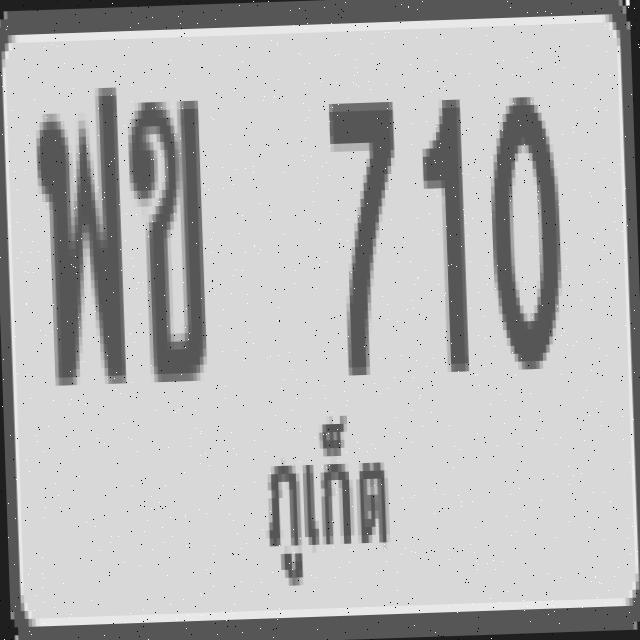0: (486, 79, 574, 425)
1: (417, 100, 494, 433)
11KhorKhai: (123, 45, 232, 444)
40ForFun: (28, 74, 137, 424)
7: (305, 39, 413, 422)
Phuket: (246, 397, 424, 624)
